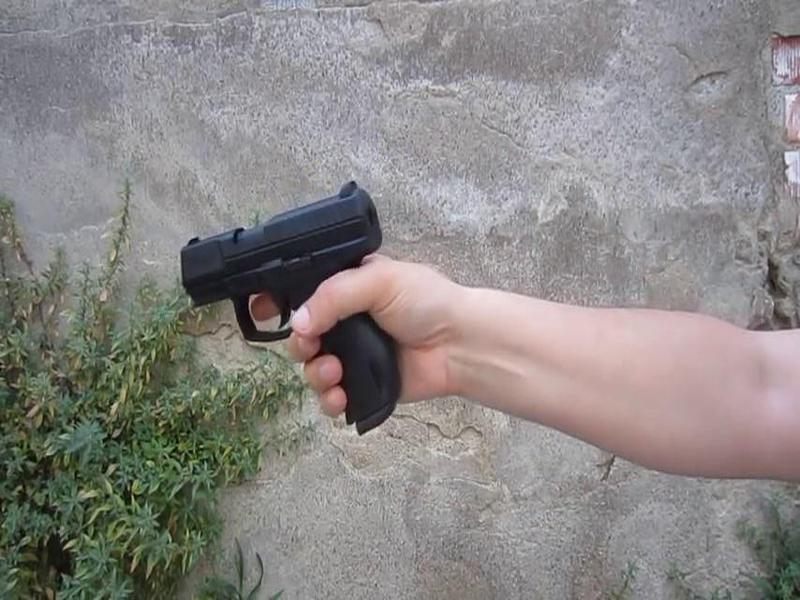Pistola: (165, 188, 408, 454)
